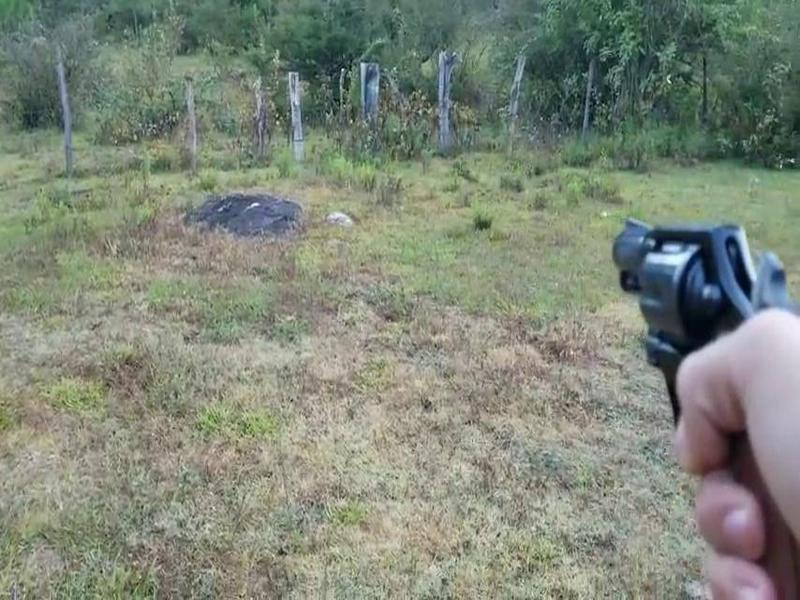Revolver: (590, 184, 800, 522)
